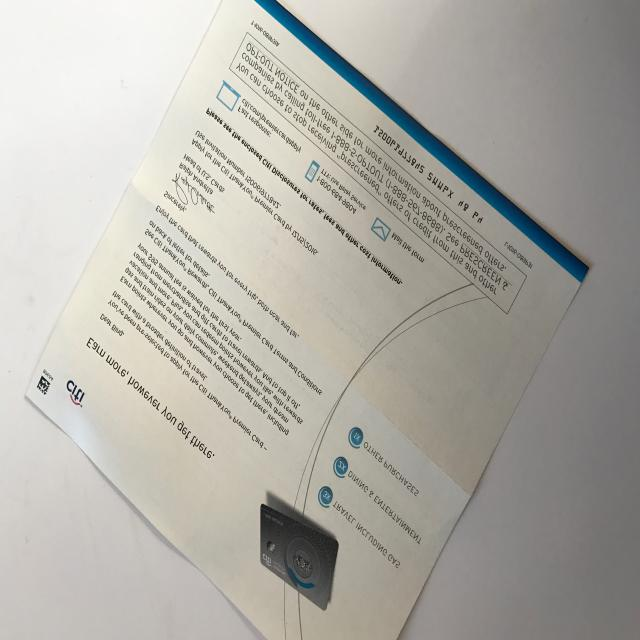paper: (19, 0, 595, 640)
